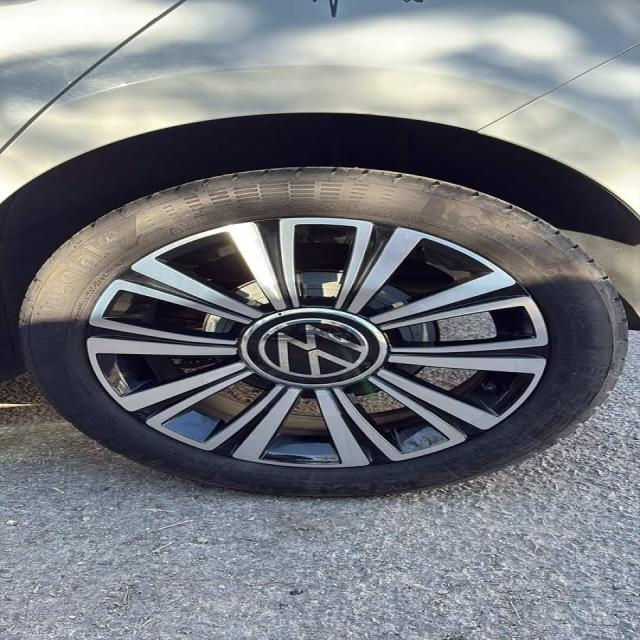jante: (83, 218, 549, 469)
roda: (15, 166, 627, 499)
